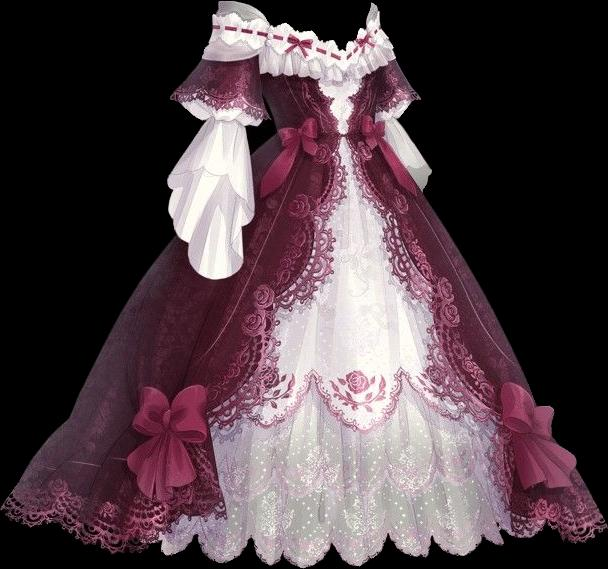Bodice: (255, 23, 390, 140)
Hemline: (1, 139, 520, 548), (0, 503, 607, 568), (220, 368, 486, 435)
Neckline: (271, 21, 371, 56)
Skirt: (1, 138, 607, 567)
Sleeve: (167, 1, 274, 279)
Sleeveline: (218, 0, 275, 58), (200, 49, 256, 63), (204, 115, 247, 128)
Waistline: (171, 91, 267, 120), (272, 133, 376, 143)
